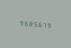eight: (27, 19, 31, 27)
five: (32, 19, 36, 28)
nine: (17, 18, 21, 26), (47, 21, 51, 29)
seven: (42, 20, 46, 28)
six: (22, 18, 26, 27), (37, 20, 41, 28)
